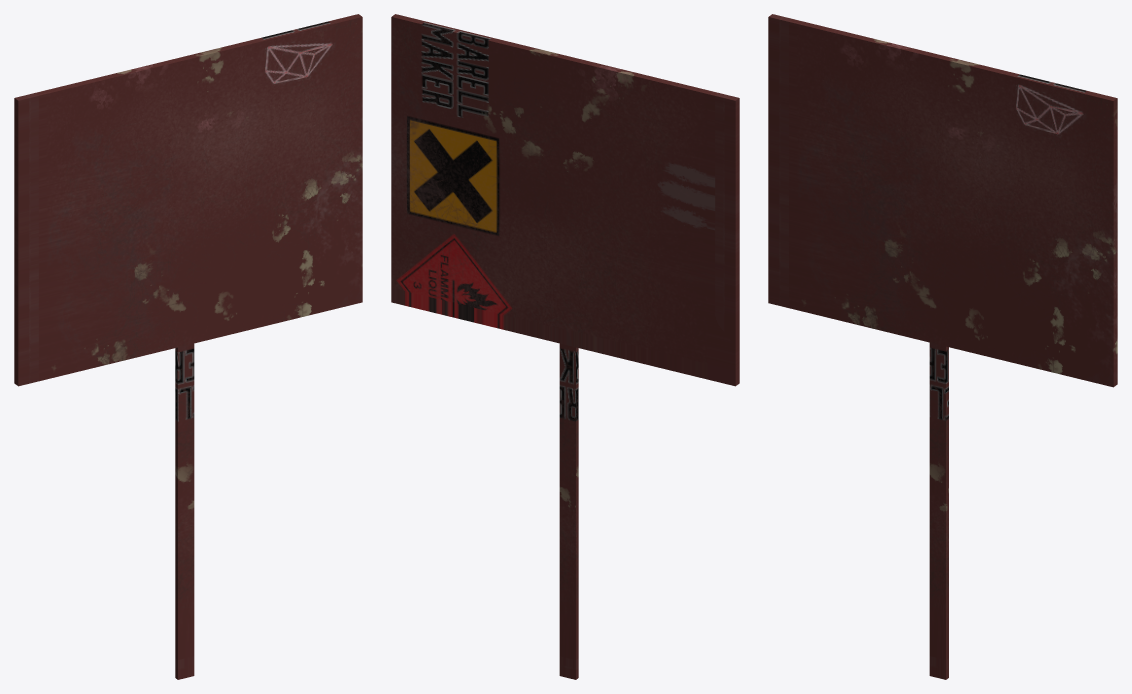
The model's file is CS_sign_01.FBX.
The picture shows the model from 3 angles, left to right: view 1: azimuth 30°, elevation 25°; view 2: azimuth 150°, elevation 25°; view 3: azimuth 330°, elevation 25°; orthographic projection.
Visible parts, largest first — view 1: SM_sign_01; view 2: SM_sign_01; view 3: SM_sign_01.
Part boxes in pixels (x1,y1,x2,y2): SM_sign_01: (14, 14, 362, 679); SM_sign_01: (391, 14, 739, 679); SM_sign_01: (768, 14, 1117, 679).
Bounding box in the file's own units: 106 × 2.12 × 183.
